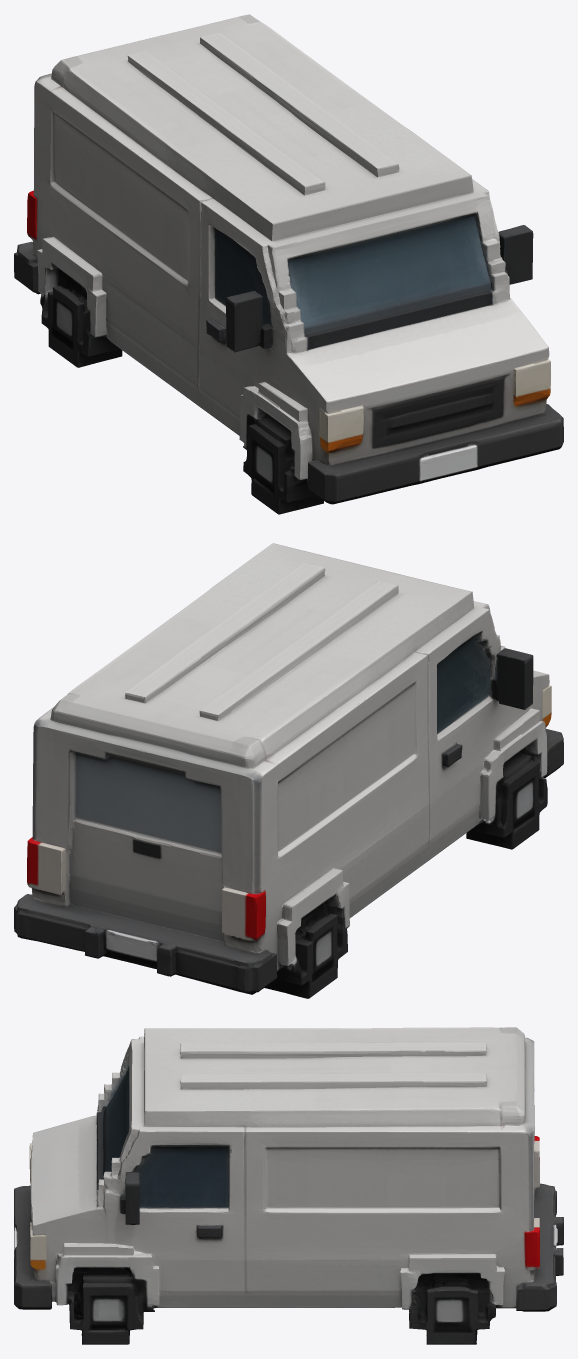
Rendered from van.glb.
The picture shows the model from 3 angles, top to bottom: view 1: azimuth 30°, elevation 25°; view 2: azimuth 150°, elevation 25°; view 3: azimuth 270°, elevation 25°; orthographic projection. The views are drawn at different scales.
Visible parts, largest first — view 1: geometry_0.008; view 2: geometry_0.008; view 3: geometry_0.008.
Part boxes in pixels (x1,y1,x2,y2): geometry_0.008: (14, 14, 563, 514); geometry_0.008: (14, 543, 563, 998); geometry_0.008: (14, 1027, 563, 1344).
Size of the model in its own units: 0.538 by 0.4584 by 0.9993.
1 material, 1 textured.
